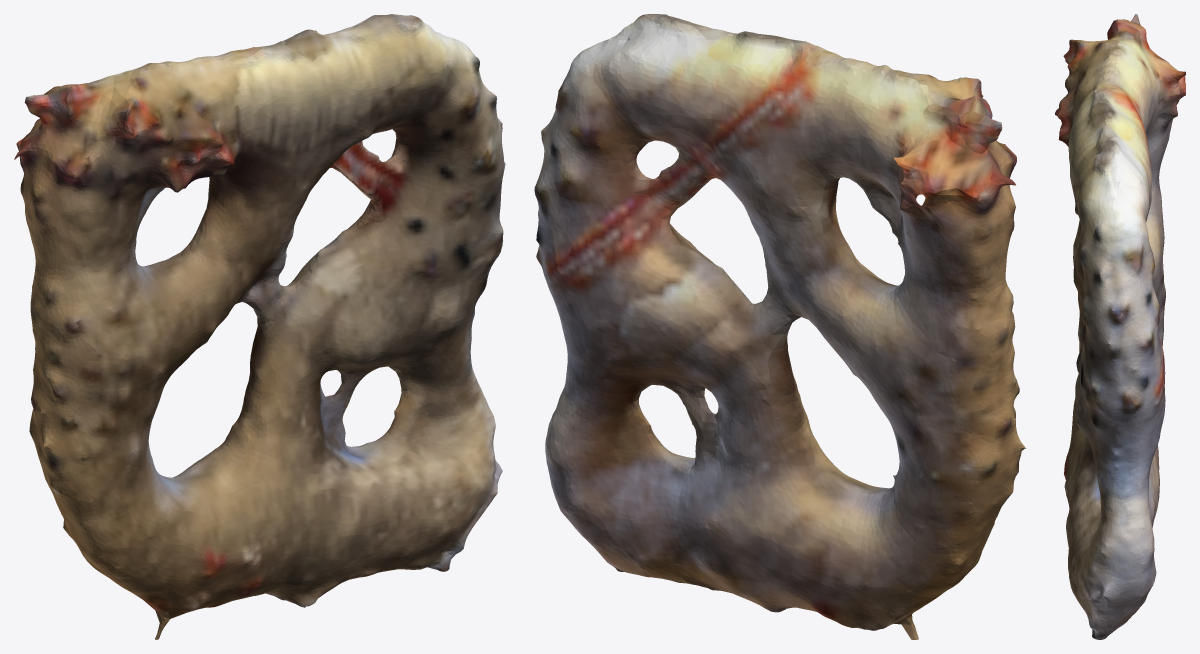
File: BIT-ROT.glb
3 renders of one model, left to right at view 1: azimuth 30°, elevation 25°; view 2: azimuth 150°, elevation 25°; view 3: azimuth 270°, elevation 25°, orthographic. The views are drawn at different scales.
Parts seen in each view (by area): view 1: mesh; view 2: mesh; view 3: mesh.
Boxes of the visible parts, x1=… form: mesh: x1=14, y1=14, x2=505, y2=639; mesh: x1=534, y1=14, x2=1026, y2=639; mesh: x1=1055, y1=14, x2=1185, y2=639.
Bounding box in the file's own units: 0.0967 × 0.1097 × 0.0275.
Materials: 1 (1 with a texture image).
